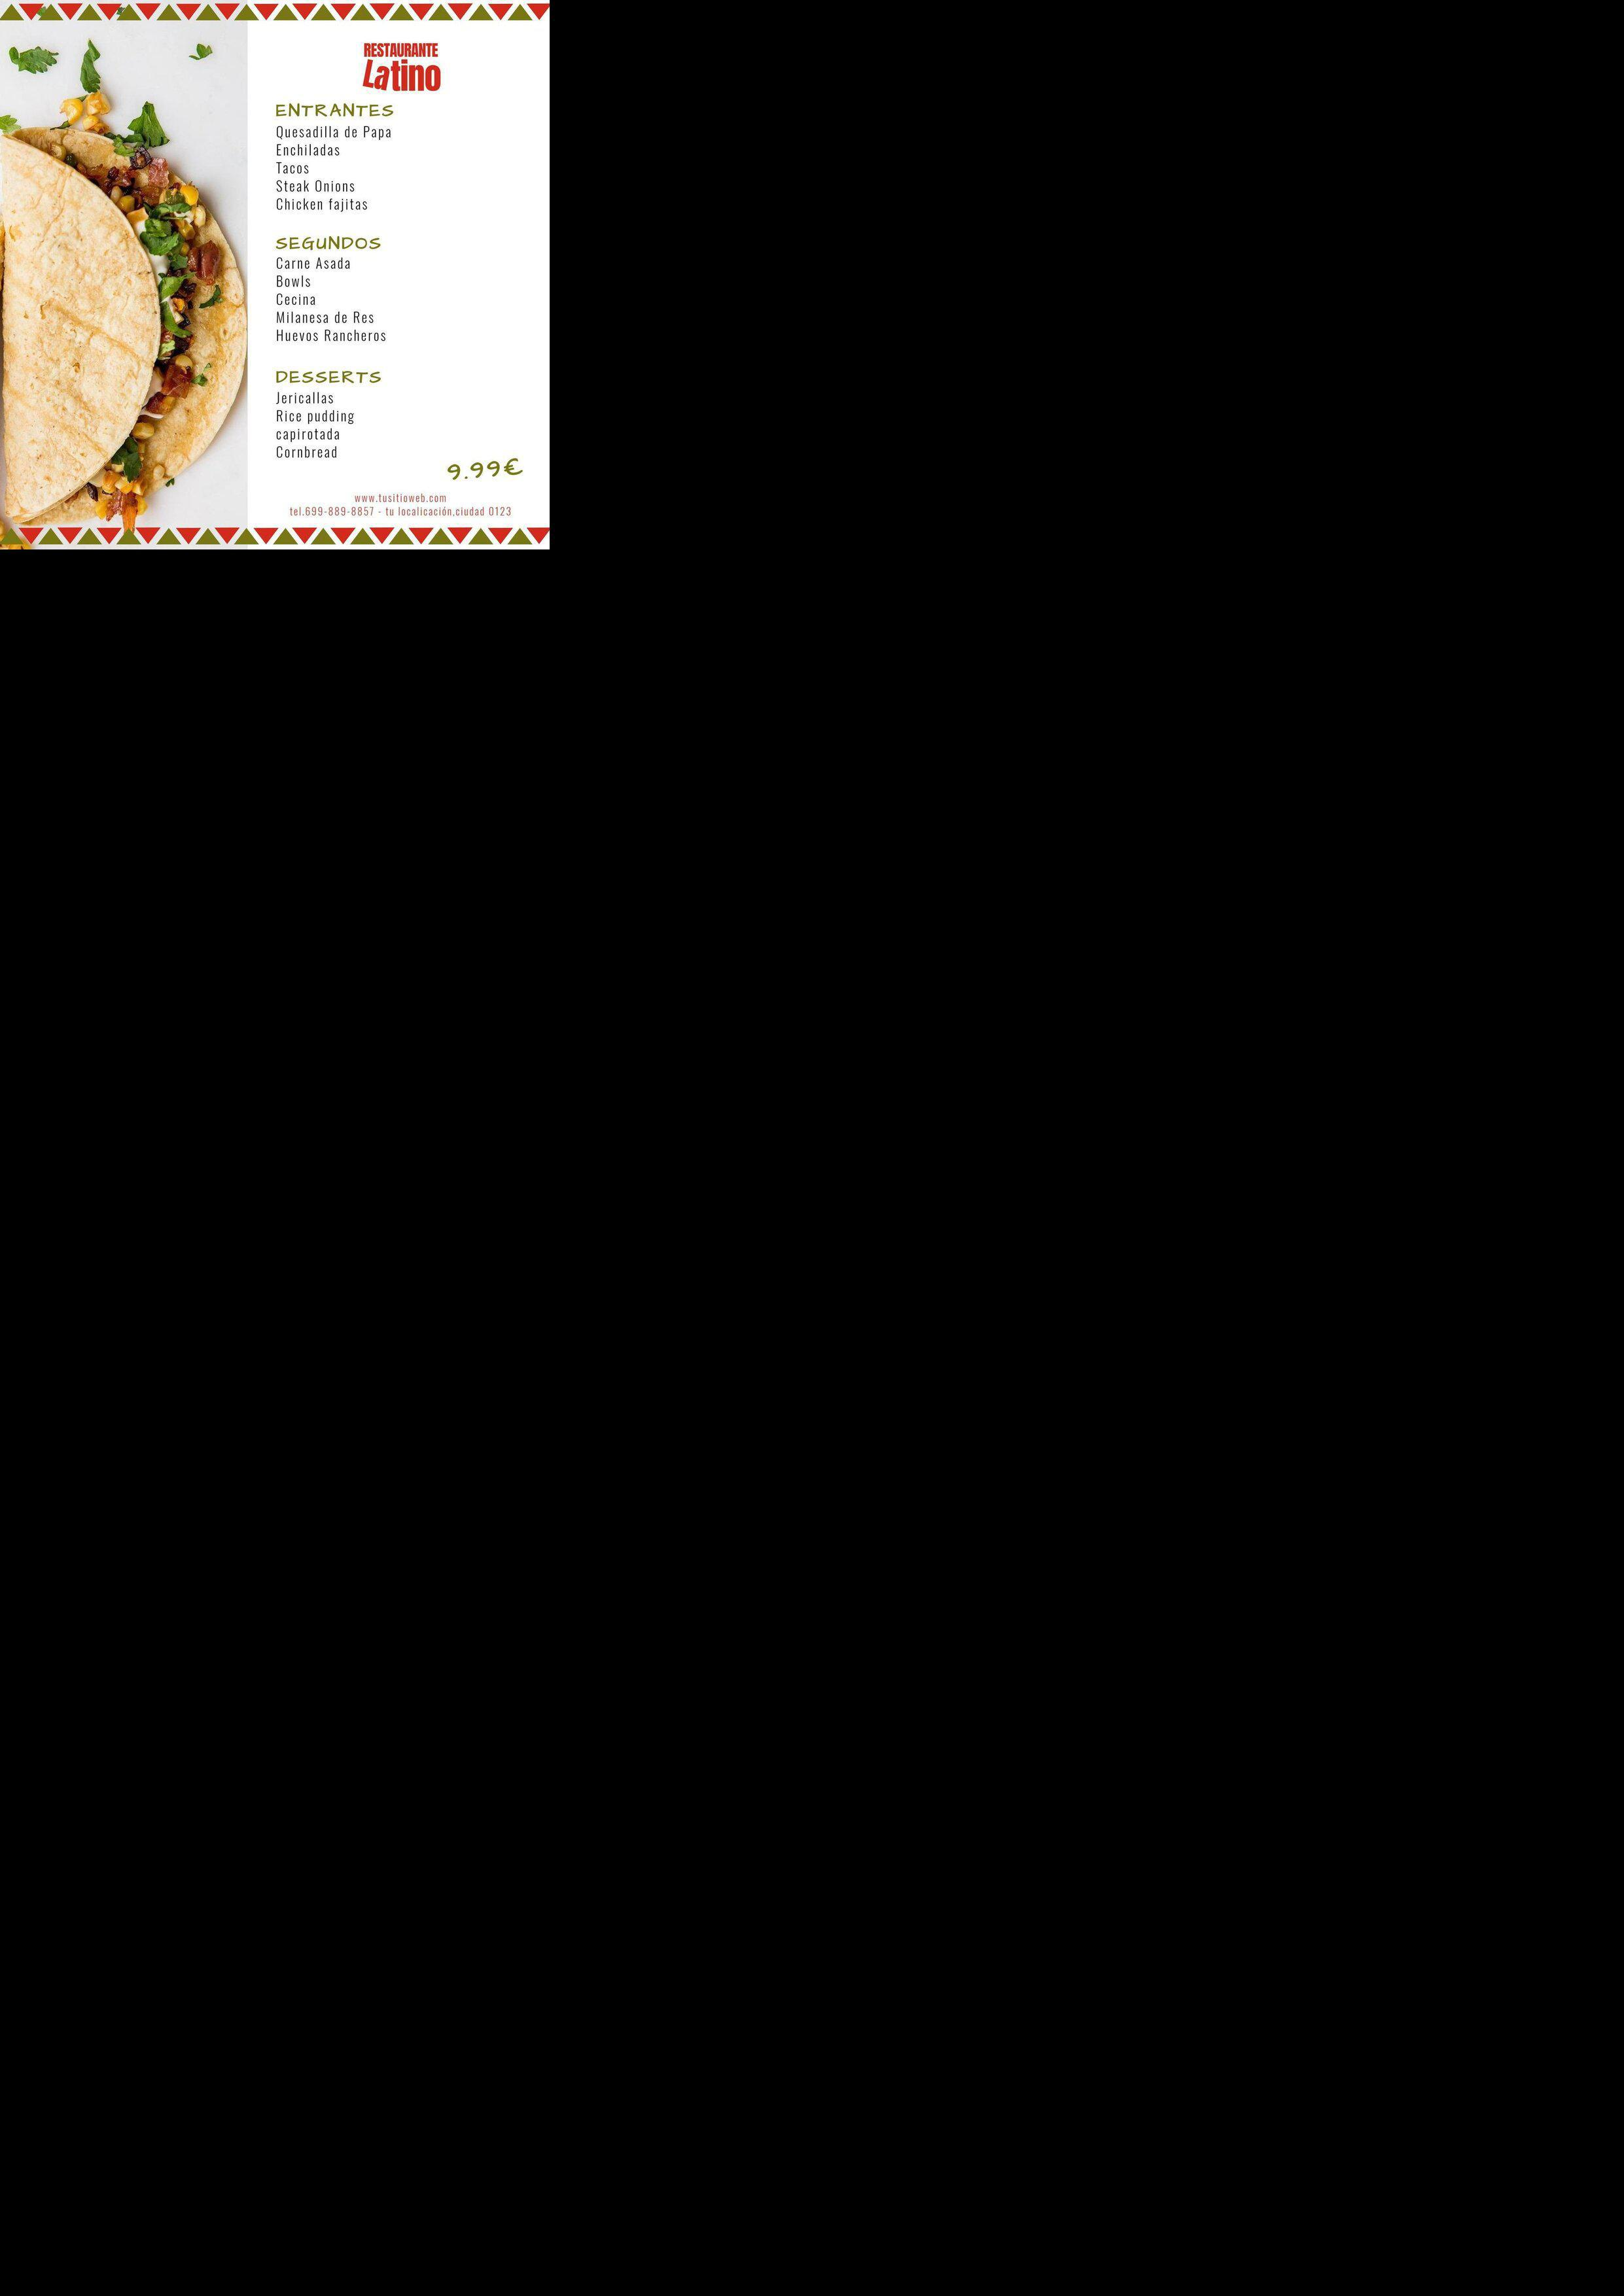item: (272, 120, 395, 143), (274, 326, 390, 345), (274, 309, 377, 328), (274, 194, 372, 213), (272, 253, 356, 273), (274, 176, 359, 195), (275, 407, 357, 426), (274, 444, 346, 461), (275, 389, 337, 408), (274, 143, 346, 158), (274, 427, 345, 443), (273, 290, 318, 308), (273, 271, 319, 288), (274, 158, 317, 177)
tittle: (276, 124, 391, 141), (276, 328, 387, 343), (276, 311, 374, 325), (275, 198, 368, 211), (275, 409, 354, 425), (275, 255, 351, 270), (275, 179, 355, 193), (276, 445, 339, 460), (275, 143, 340, 157), (275, 429, 341, 442), (276, 392, 334, 404), (276, 292, 317, 307), (275, 275, 311, 288), (275, 162, 309, 175)
